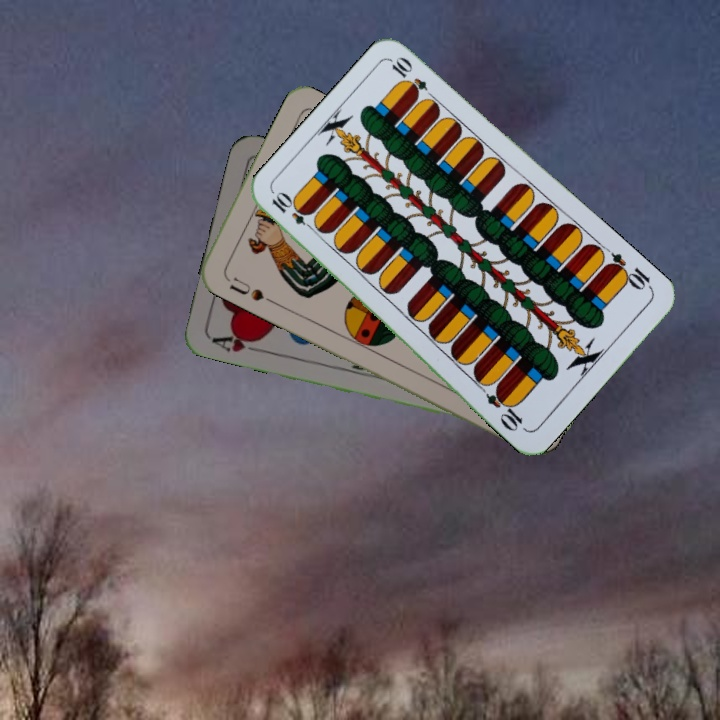E10: (601, 249, 655, 294), (267, 189, 319, 235)
HA: (207, 328, 265, 355)
SU: (221, 271, 267, 304)
